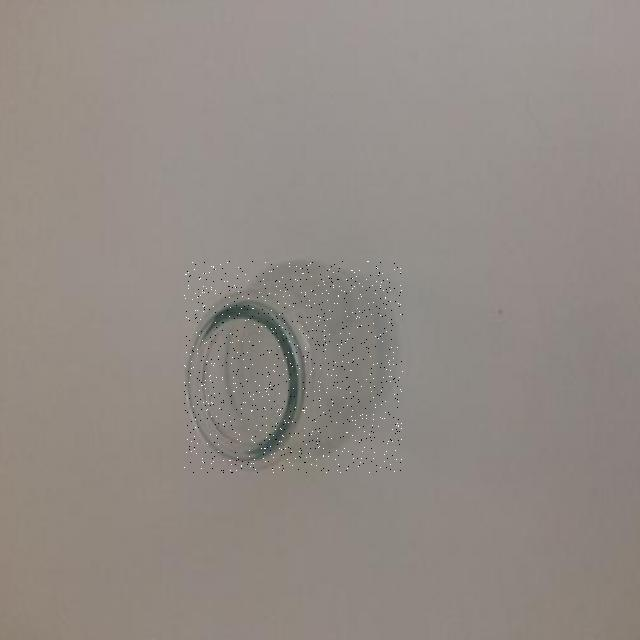glass: (185, 262, 403, 473)
